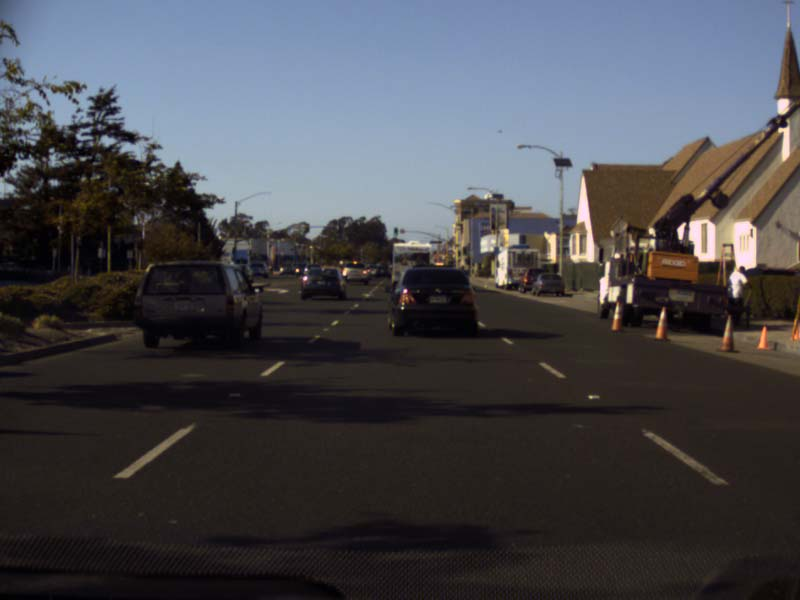Green: (393, 226, 397, 236)
